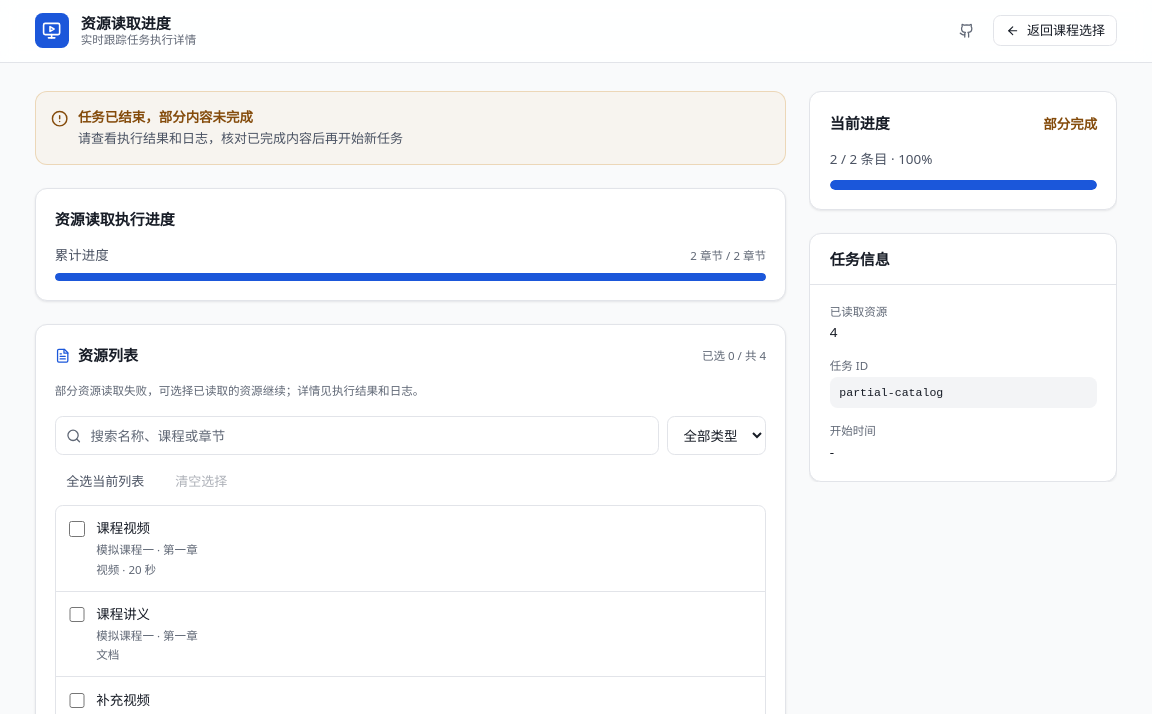
Test: resource selection and task results › allows available resources in a partial catalog and displays failed scan results
Click the checkbox named "选择资源 课程视频" at (77, 529), box [69,521,85,537]
(page scrolled)
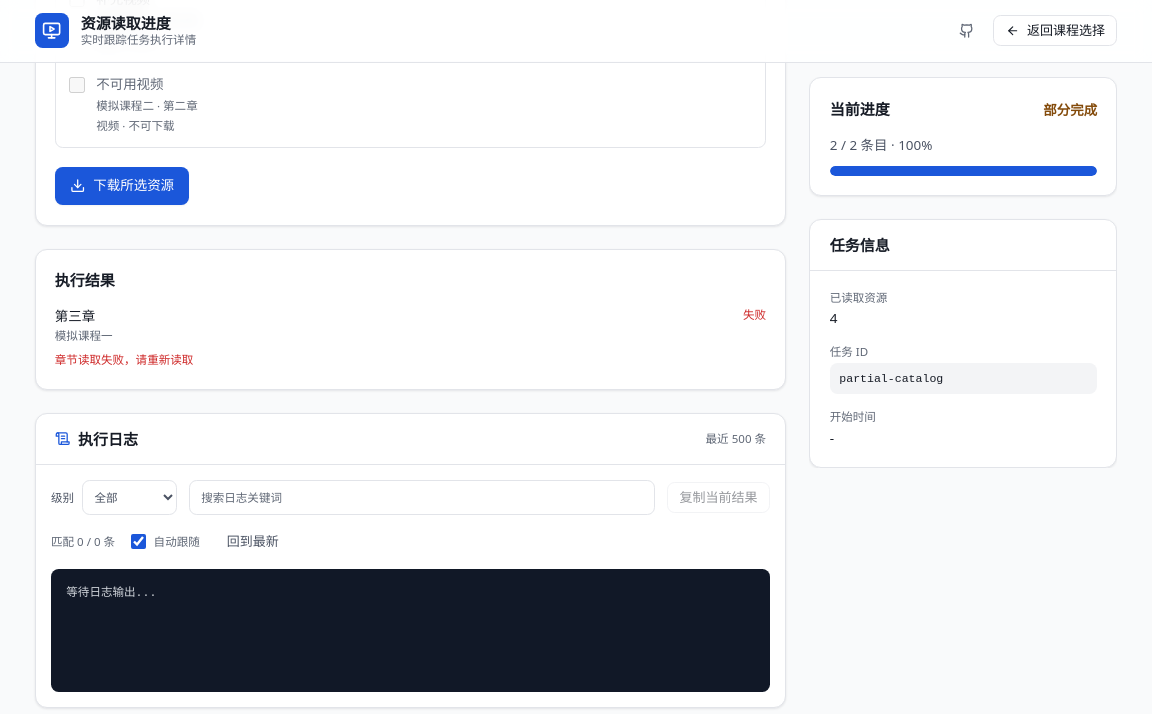
Check: the text "章节读取失败，请重新读取" is shown, box [55,352,193,367]
Check: the button "下载所选资源" is enabled, box [55,167,190,205]
